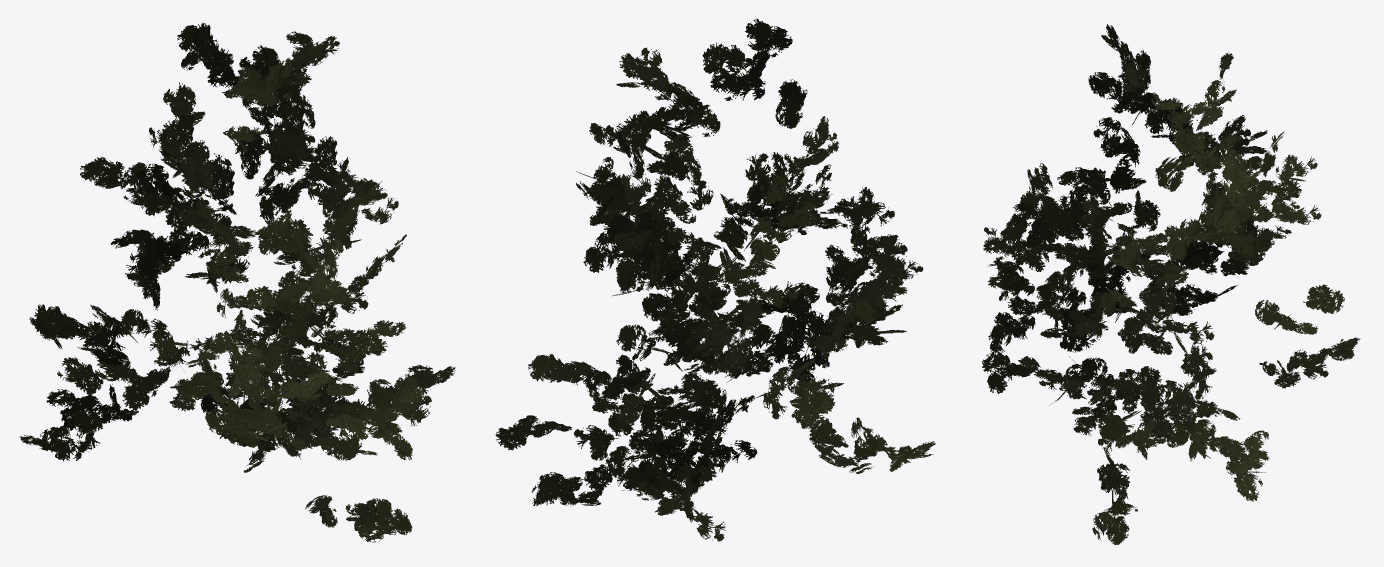
Rendered from fir_c_near.glb.
The picture shows the model from 3 angles, left to right: view 1: azimuth 30°, elevation 25°; view 2: azimuth 150°, elevation 25°; view 3: azimuth 270°, elevation 25°; orthographic projection. The views are drawn at different scales.
Parts seen in each view (by area): view 1: cards; view 2: cards; view 3: cards.
Part boxes in pixels (x1,y1,x2,y2): cards: (20, 22, 455, 542); cards: (495, 18, 935, 541); cards: (982, 24, 1360, 544).
Size of the model in its own units: 6.75 by 7.84 by 6.12.
1 material, 1 textured.
